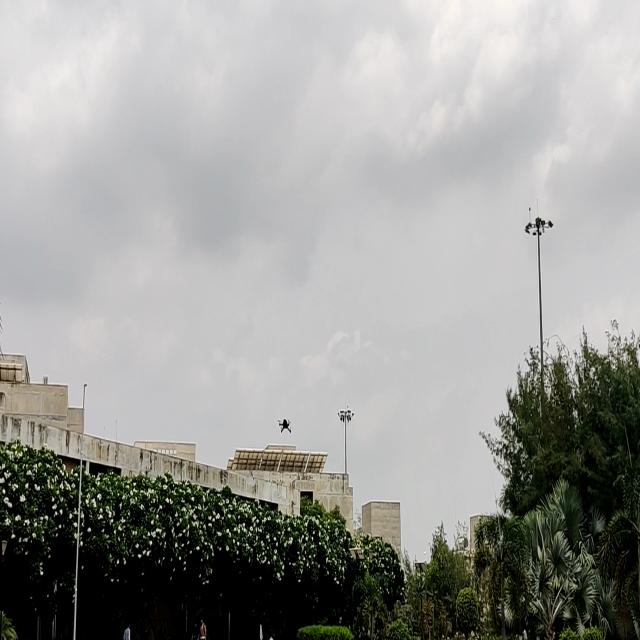drone: (272, 416, 298, 438)
